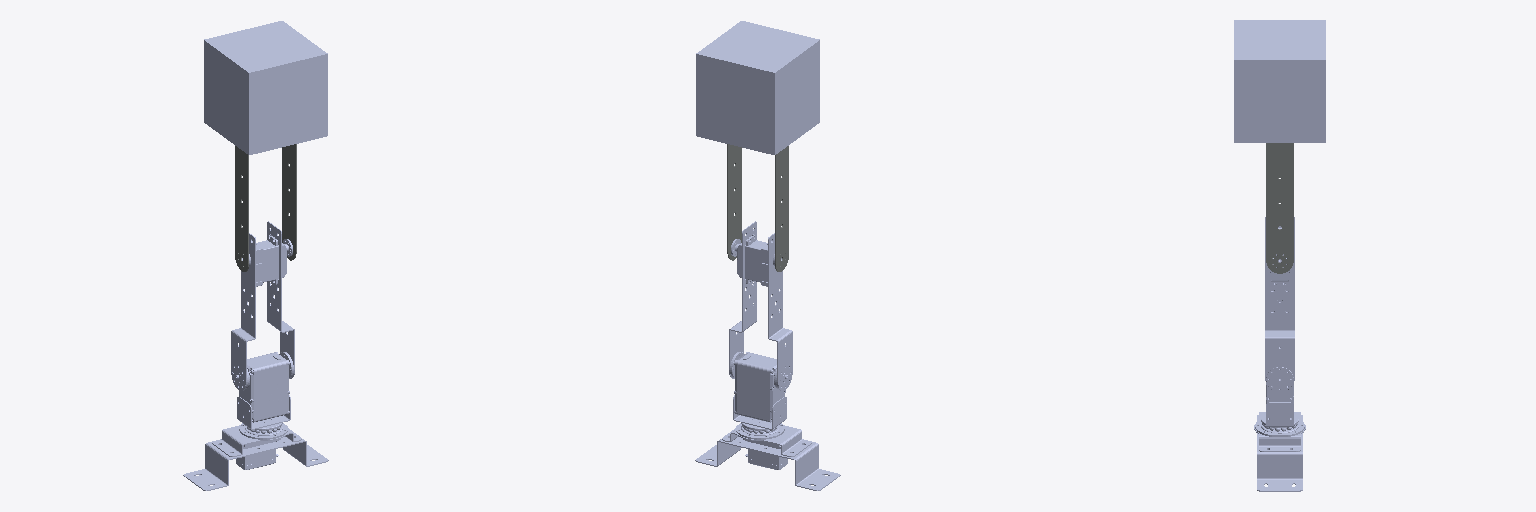
robot.urdf — robotic_arm:
<?xml version="1.0" encoding="utf-8"?>
<!-- This URDF was automatically created by SolidWorks to URDF Exporter! Originally created by [author] ([email redacted]) 
     Commit Version: 1.6.0-4-g7f85cfe  Build Version: 1.6.7995.38578
     For more information, please see http://wiki.ros.org/sw_urdf_exporter -->
<robot
  name="robotic_arm">
  <link
    name="base_link">
    <inertial>
      <origin
        xyz="0.00212961864702184 -6.93592705743387E-07 0.0296466455845903"
        rpy="0 0 0" />
      <mass
        value="0.0596911945397324" />
      <inertia
        ixx="1.23949260736612E-05"
        ixy="-1.0204052280525E-12"
        ixz="-4.97524939732866E-08"
        iyy="4.34754918249964E-05"
        iyz="5.69408754453104E-10"
        izz="4.39052841763201E-05" />
    </inertial>
    <visual>
      <origin
        xyz="0 0 0"
        rpy="0 0 0" />
      <geometry>
        <mesh
          filename="package://robotic_arm/meshes/base_link.STL" />
      </geometry>
      <material
        name="">
        <color
          rgba="0.792156862745098 0.819607843137255 0.933333333333333 1" />
      </material>
    </visual>
    <collision>
      <origin
        xyz="0 0 0"
        rpy="0 0 0" />
      <geometry>
        <mesh
          filename="package://robotic_arm/meshes/base_link.STL" />
      </geometry>
    </collision>
  </link>
  <link
    name="j1">
    <inertial>
      <origin
        xyz="-0.00077250043257409 -3.21827787596457E-08 0.0406600654303929"
        rpy="0 0 0" />
      <mass
        value="0.0672800848605551" />
      <inertia
        ixx="3.08127311665106E-05"
        ixy="9.93543975940982E-13"
        ixz="9.77429817041631E-09"
        iyy="2.76704765216436E-05"
        iyz="7.73265708504628E-09"
        izz="9.29953610843967E-06" />
    </inertial>
    <visual>
      <origin
        xyz="0 0 0"
        rpy="0 0 0" />
      <geometry>
        <mesh
          filename="package://robotic_arm/meshes/j1.STL" />
      </geometry>
      <material
        name="">
        <color
          rgba="0.792156862745098 0.819607843137255 0.933333333333333 1" />
      </material>
    </visual>
    <collision>
      <origin
        xyz="0 0 0"
        rpy="0 0 0" />
      <geometry>
        <mesh
          filename="package://robotic_arm/meshes/j1.STL" />
      </geometry>
    </collision>
  </link>
  <joint
    name="j1_joint"
    type="revolute">
    <origin
      xyz="0.01 0 0.0557"
      rpy="0 0 0" />
    <parent
      link="base_link" />
    <child
      link="j1" />
    <axis
      xyz="0 0 1" />
    <limit lower="-1.57" upper="1.57" effort="10.0" velocity="0.5" />
  </joint>
  <link
    name="j2">
    <inertial>
      <origin
        xyz="0.0323343759981833 -3.36660340750916E-09 0.117734966665185"
        rpy="0 0 0" />
      <mass
        value="0.0515986501162312" />
      <inertia
        ixx="4.11122326010689E-05"
        ixy="1.11054332037156E-12"
        ixz="2.75686176693032E-07"
        iyy="4.36190755121796E-05"
        iyz="7.01496517934963E-13"
        izz="7.52902514000075E-06" />
    </inertial>
    <visual>
      <origin
        xyz="0 0 0"
        rpy="0 0 0" />
      <geometry>
        <mesh
          filename="package://robotic_arm/meshes/j2.STL" />
      </geometry>
      <material
        name="">
        <color
          rgba="0.792156862745098 0.819607843137255 0.933333333333333 1" />
      </material>
    </visual>
    <collision>
      <origin
        xyz="0 0 0"
        rpy="0 0 0" />
      <geometry>
        <mesh
          filename="package://robotic_arm/meshes/j2.STL" />
      </geometry>
    </collision>
  </link>
  <joint
    name="j2_joint"
    type="revolute">
    <origin
      xyz="-0.0322 0 0.0604"
      rpy="0 0 0" />
    <parent
      link="j1" />
    <child
      link="j2" />
    <axis
      xyz="-1 0 0" />
    <limit lower="-1.57" upper="1.57" effort="10.0" velocity="0.5" />
  </joint>
  <link
    name="j3">
    <inertial>
      <origin
        xyz="-0.0293500000000002 -6.15368367719131E-06 0.0760047483933923"
        rpy="0 0 0" />
      <mass
        value="0.0967643939406895" />
      <inertia
        ixx="0.00024633894493241"
        ixy="1.036802656212E-19"
        ixz="-4.68134536250138E-19"
        iyy="0.000321572308169038"
        iyz="4.37037509452949E-08"
        izz="9.04373370050331E-05" />
    </inertial>
    <visual>
      <origin
        xyz="0 0 0"
        rpy="0 0 0" />
      <geometry>
        <mesh
          filename="package://robotic_arm/meshes/j3.STL" />
      </geometry>
      <material
        name="">
        <color
          rgba="0.529411764705882 0.549019607843137 0.549019607843137 1" />
      </material>
    </visual>
    <collision>
      <origin
        xyz="0 0 0"
        rpy="0 0 0" />
      <geometry>
        <mesh
          filename="package://robotic_arm/meshes/j3.STL" />
      </geometry>
    </collision>
  </link>
  <joint
    name="j3_joint"
    type="revolute">
    <origin
      xyz="0.0639 0 0.142"
      rpy="0 0 0" />
    <parent
      link="j2" />
    <child
      link="j3" />
    <axis
      xyz="-1 0 0" />
    <limit lower="-1.57" upper="1.57" effort="10.0" velocity="0.5" />
  </joint>
  <link
    name="ef">
    <inertial>
      <origin
        xyz="1.77809156287623E-16 8.67361737988404E-18 0.05"
        rpy="0 0 0" />
      <mass
        value="1" />
      <inertia
        ixx="0.00166666666666667"
        ixy="1.42491047438096E-20"
        ixz="-2.91146377685951E-20"
        iyy="0.00166666666666667"
        iyz="-5.16057675168232E-20"
        izz="0.00166666666666667" />
    </inertial>
    <visual>
      <origin
        xyz="0 0 0"
        rpy="0 0 0" />
      <geometry>
        <mesh
          filename="package://robotic_arm/meshes/ef.STL" />
      </geometry>
      <material
        name="">
        <color
          rgba="0.792156862745098 0.819607843137255 0.933333333333333 1" />
      </material>
    </visual>
    <collision>
      <origin
        xyz="0 0 0"
        rpy="0 0 0" />
      <geometry>
        <mesh
          filename="package://robotic_arm/meshes/ef.STL" />
      </geometry>
    </collision>
  </link>
  <joint
    name="ef_1"
    type="revolute">
    <origin
      xyz="-0.02935 0 0.15"
      rpy="0 0 0" />
    <parent
      link="j3" />
    <child
      link="ef" />
    <axis
      xyz="0 0 1" />
    <limit lower="0" upper="1.57" effort="10.0" velocity="0.5" />
  </joint>
</robot>

--- What the picture shows (computed from the rendered views, not written in the file) ---
3 views of the same robot in one strip: view 1: azimuth 30°, elevation 25°; view 2: azimuth 150°, elevation 25°; view 3: azimuth 270°, elevation 25° (orthographic).
Model robotic_arm with 5 links and 4 joints (4 revolute), rooted at base_link, posed all joints at 0.
Links seen in each view (by area): view 1: ef, j2, base_link, j1, j3; view 2: ef, j2, base_link, j1, j3; view 3: ef, j3, base_link, j2, j1.
Link boxes in pixels (x1=…): ef: x1=204, y1=21, x2=327, y2=154; j2: x1=231, y1=221, x2=294, y2=390; base_link: x1=183, y1=423, x2=328, y2=490; j1: x1=235, y1=352, x2=293, y2=429; j3: x1=235, y1=144, x2=296, y2=271; ef: x1=696, y1=21, x2=819, y2=154; j2: x1=729, y1=221, x2=792, y2=390; base_link: x1=695, y1=423, x2=840, y2=490; j1: x1=730, y1=352, x2=788, y2=429; j3: x1=727, y1=144, x2=788, y2=271; ef: x1=1234, y1=20, x2=1325, y2=142; j3: x1=1266, y1=143, x2=1293, y2=273; base_link: x1=1254, y1=412, x2=1305, y2=491; j2: x1=1265, y1=217, x2=1294, y2=392; j1: x1=1266, y1=345, x2=1293, y2=426.
Size in the robot's own frame: 0.1576 by 0.1 by 0.5081 metres.
5 mesh visuals loaded from 5 distinct referenced files (5 binary STL).